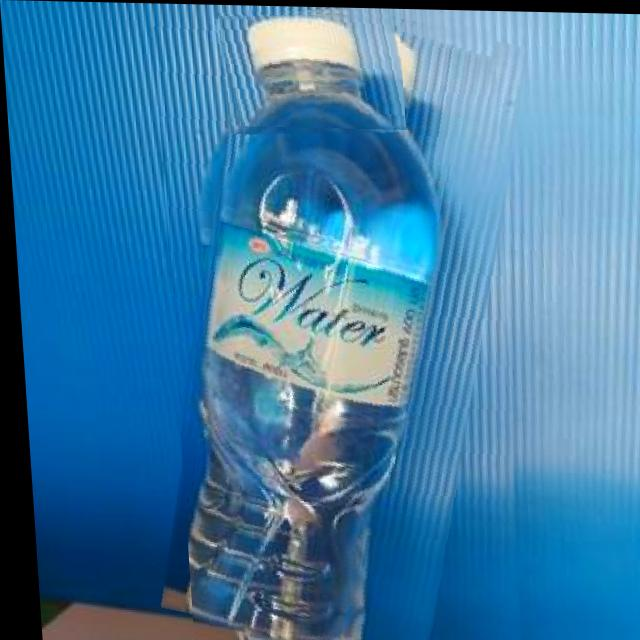plasticbottle: (152, 3, 527, 640)
plasticbottlecap: (216, 4, 404, 128)
